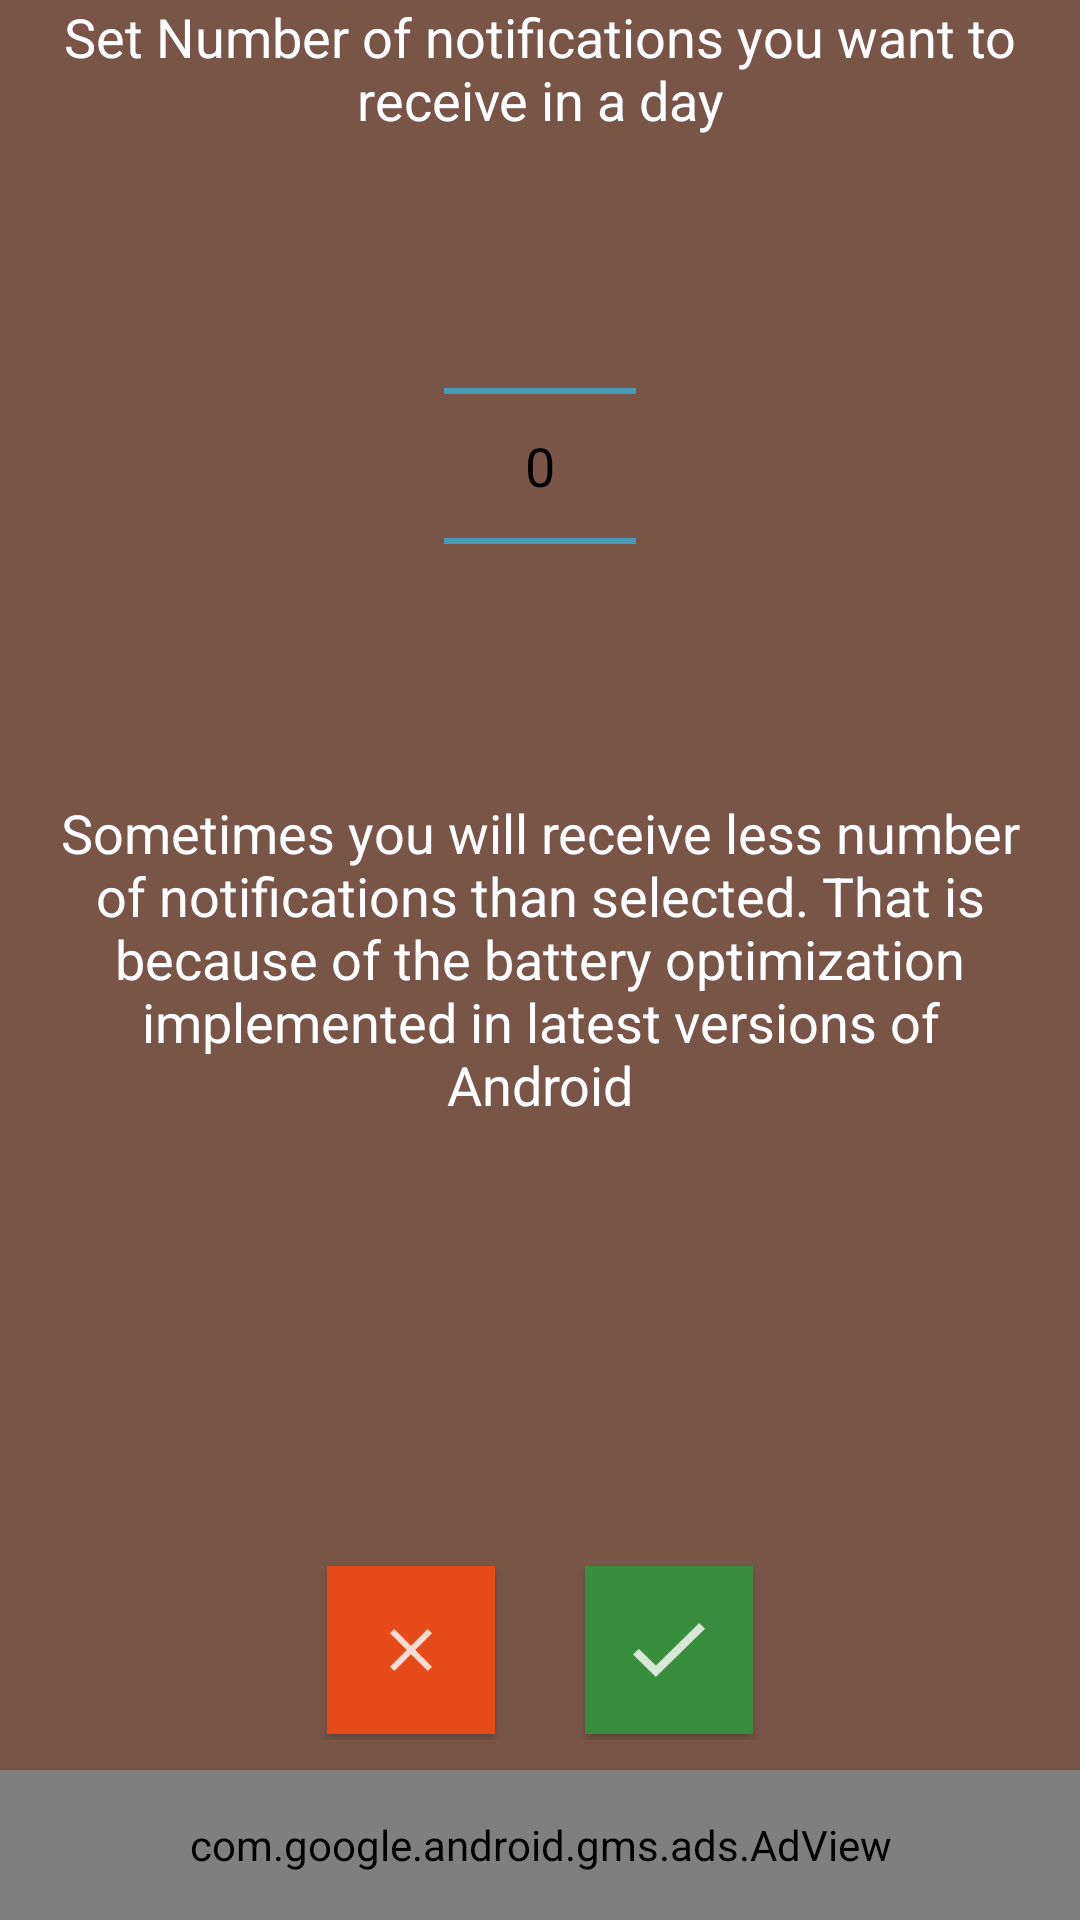

Where icons sit on this 1080w x 1920h app screen, as (x1, y1, x2, y2):
cancel: (327, 1566, 495, 1734)
done: (585, 1566, 753, 1734)
